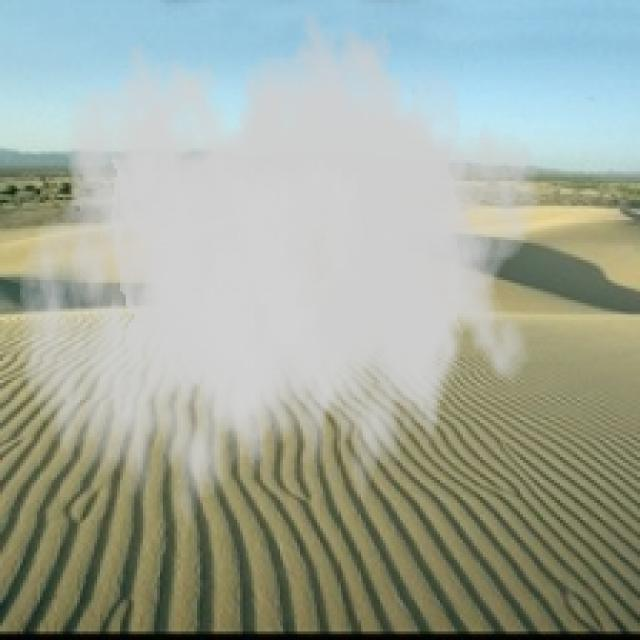smoke: (17, 0, 543, 555)
